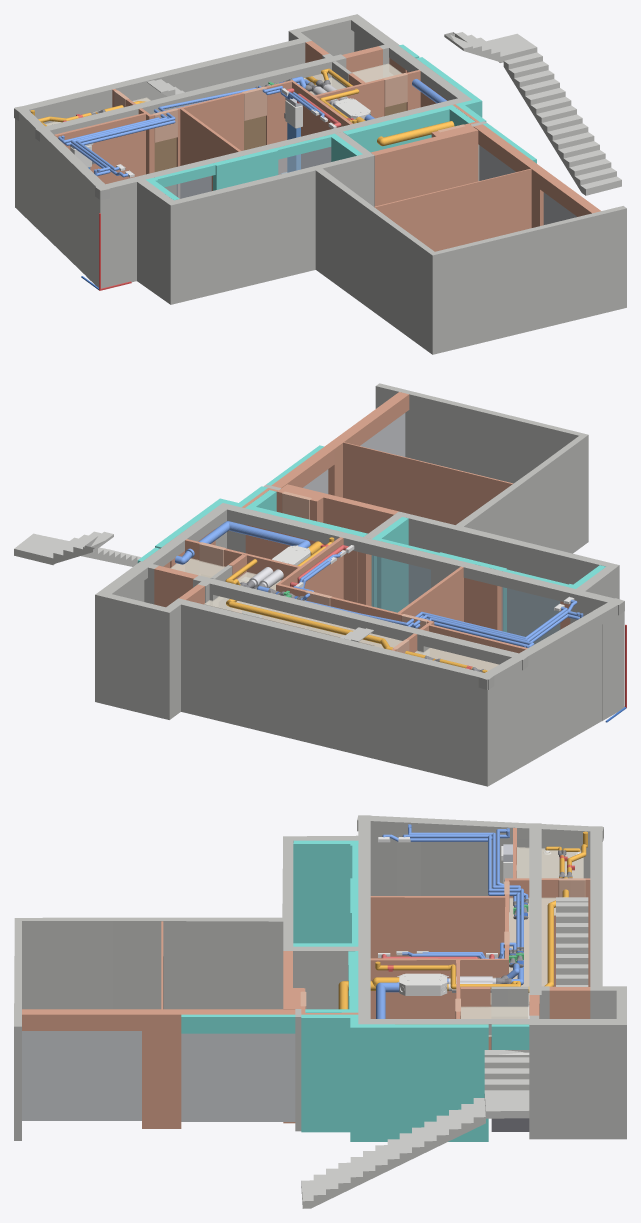
File: HouseEM_AR_BS_open.glb
3 views of the same model, one above another, from view 1: azimuth 30°, elevation 25°; view 2: azimuth 150°, elevation 25°; view 3: azimuth 270°, elevation 25° (orthographic). The views are drawn at different scales.
Parts seen in each view (by area): view 1: BS-RCW01, BS-RCW04, BS-RCW02, BS-INTW22, BS-ST02, BS-RCW09, BS-RCW08, BS-INTW21, BS-BEAM05, BS-INTW08, BS-COL03, BS-COL07 (+51 smaller); view 2: BS-RCW05, BS-COL07, BS-RCW01, BS-RCW04, BS-RCW02, BS-INTW22, BS-RCW08, BS-RCW06, BS-COL08, BS-BEAM02, BS-BEAM05, BS-BEAM08 (+42 smaller); view 3: BS-RCW02, BS-ET01, BS-COL07, BS-GD02, BS-GD01, BS-INTW09, BS-ET06, BS-ET03, BS-RCW08, BS-ST02, BS-BW01, BS-RCW03 (+38 smaller).
Part boxes in pixels (x1,y1,x2,y2): BS-RCW01: [429, 206, 626, 354]; BS-RCW04: [174, 154, 367, 302]; BS-RCW02: [315, 169, 434, 351]; BS-INTW22: [374, 168, 531, 251]; BS-ST02: [503, 52, 621, 195]; BS-RCW09: [137, 179, 178, 304]; BS-RCW08: [40, 143, 86, 275]; BS-INTW21: [371, 136, 439, 206]; BS-BEAM05: [97, 37, 311, 95]; BS-INTW08: [54, 113, 145, 184]; BS-COL03: [86, 175, 113, 288]; BS-COL07: [288, 14, 399, 78]; BS-RCW05: [184, 616, 385, 761]; BS-COL07: [95, 561, 188, 719]; BS-RCW01: [375, 383, 588, 543]; BS-RCW04: [402, 513, 610, 643]; BS-RCW02: [456, 436, 585, 553]; BS-INTW22: [343, 442, 513, 524]; BS-RCW08: [529, 624, 601, 762]; BS-RCW06: [405, 669, 454, 778]; BS-COL08: [454, 667, 495, 786]; BS-BEAM02: [217, 503, 469, 571]; BS-BEAM05: [173, 599, 407, 667]; BS-BEAM08: [193, 575, 424, 643]; BS-RCW02: [22, 917, 282, 1009]; BS-ET01: [350, 1024, 488, 1141]; BS-COL07: [529, 984, 626, 1139]; BS-GD02: [22, 1031, 141, 1120]; BS-GD01: [181, 1033, 295, 1121]; BS-INTW09: [370, 896, 504, 958]; BS-ET06: [293, 840, 358, 943]; BS-ET03: [301, 1014, 358, 1132]; BS-RCW08: [397, 833, 529, 895]; BS-ST02: [301, 1098, 485, 1208]; BS-BW01: [142, 1009, 181, 1128]; BS-RCW03: [283, 946, 358, 1009].
Size of the model in its own units: 16.28 by 3.1 by 15.06.
